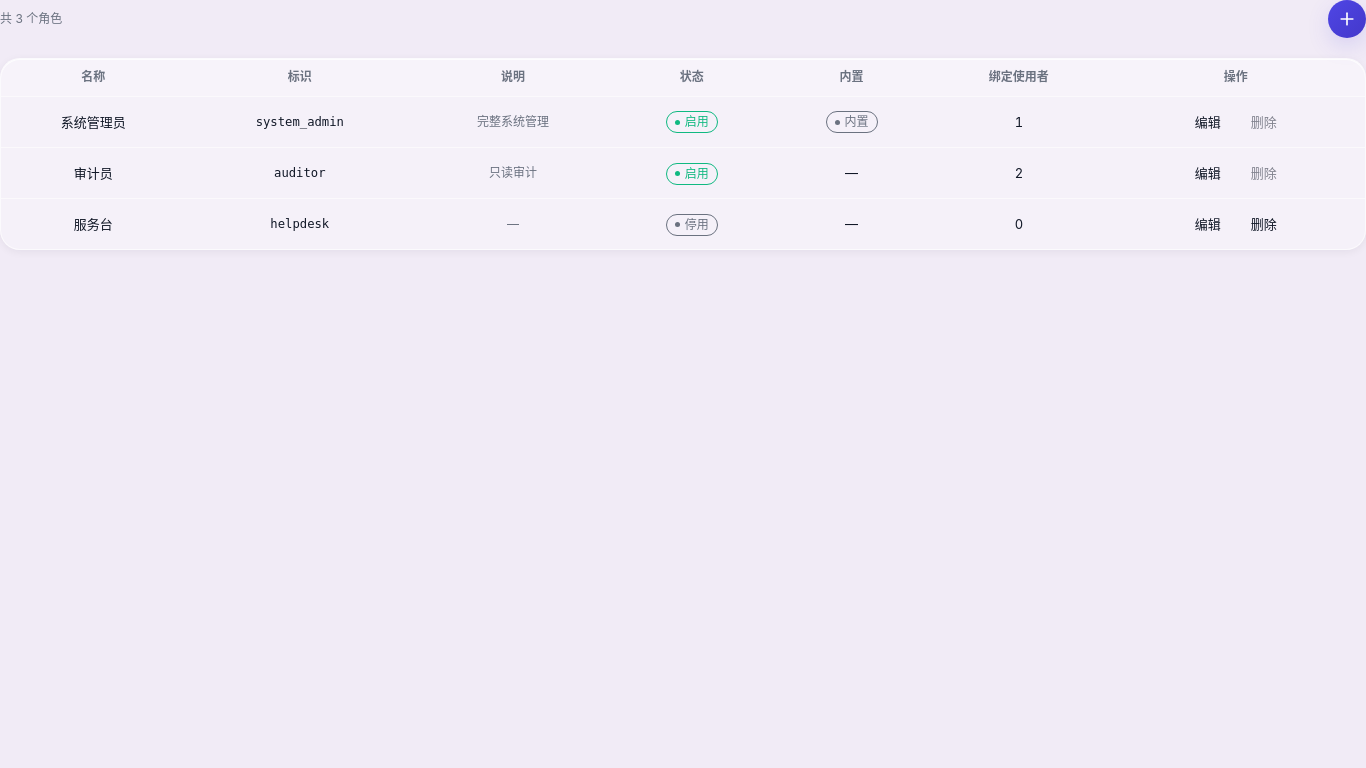
角色管理 › 编辑自定义角色：弹窗内名称/说明可改，保存提交 id 与原状态
The width and height of the screenshot is (1366, 768).
Expected: the text "服务台" is shown, [1,198,186,249]
Click the button with aria-label "编辑角色 服务台".
click(1208, 224)  # box [1184,208,1232,240]
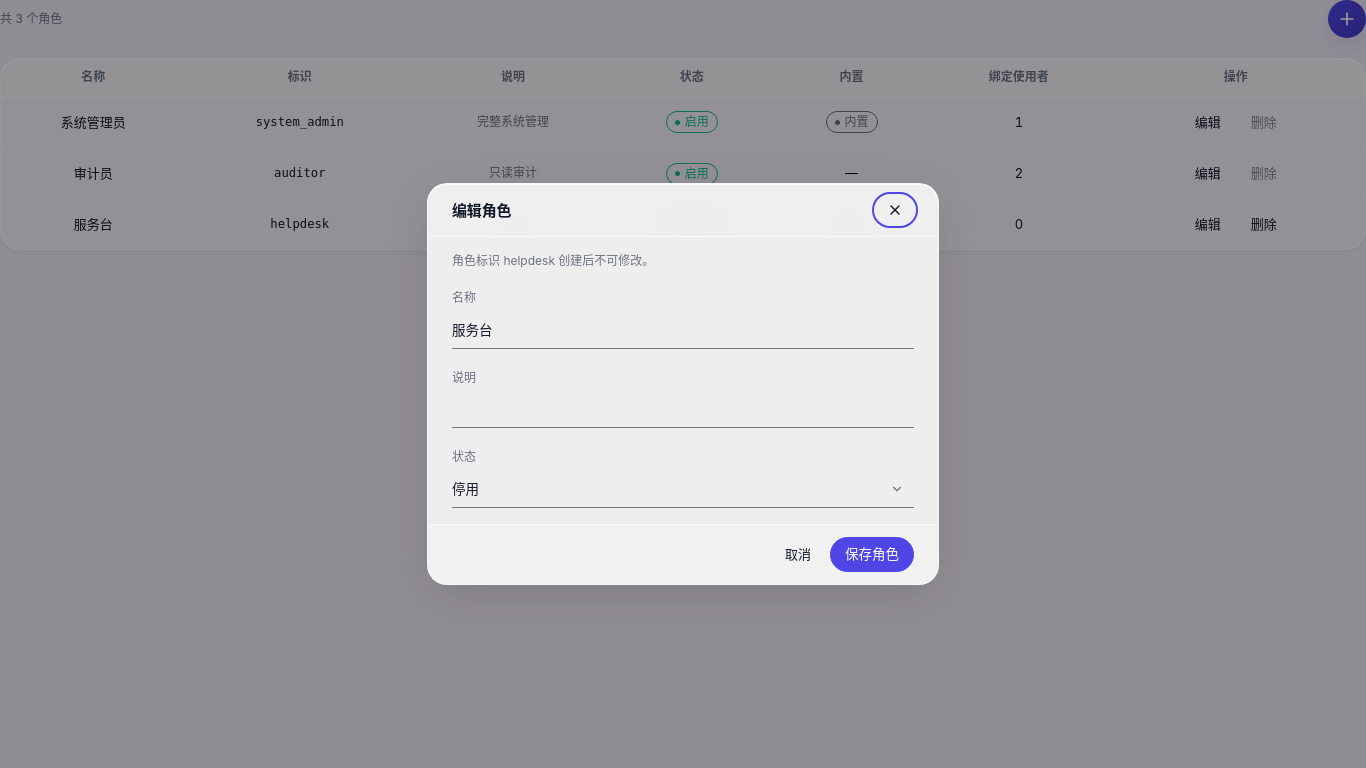
Expected: the field labelled "名称" holds "服务台"
Expected: the field labelled "名称" is enabled
Replace the text in the field labelled "名称" with "支持台" at (683, 330), box [452,313,914,348]
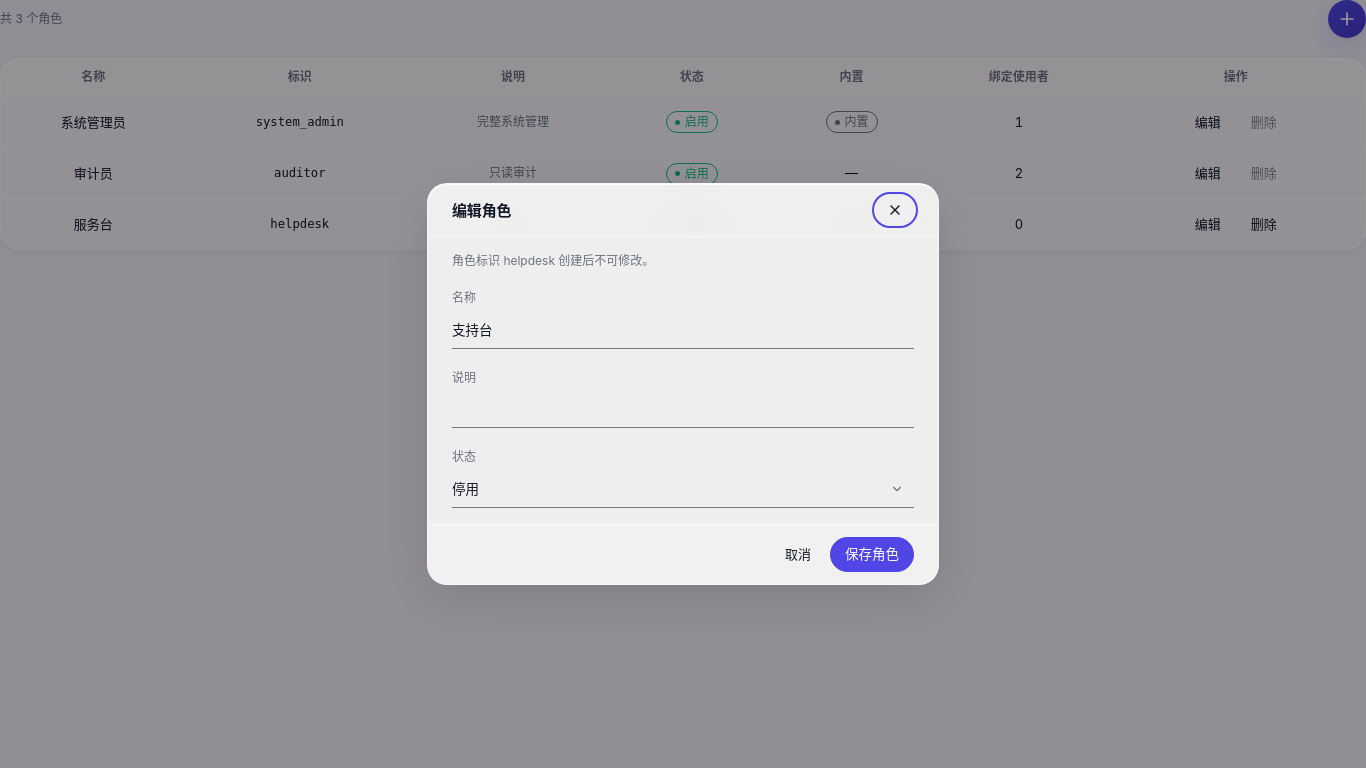
Click the button "保存角色".
click(872, 554)  # box [830,537,914,572]
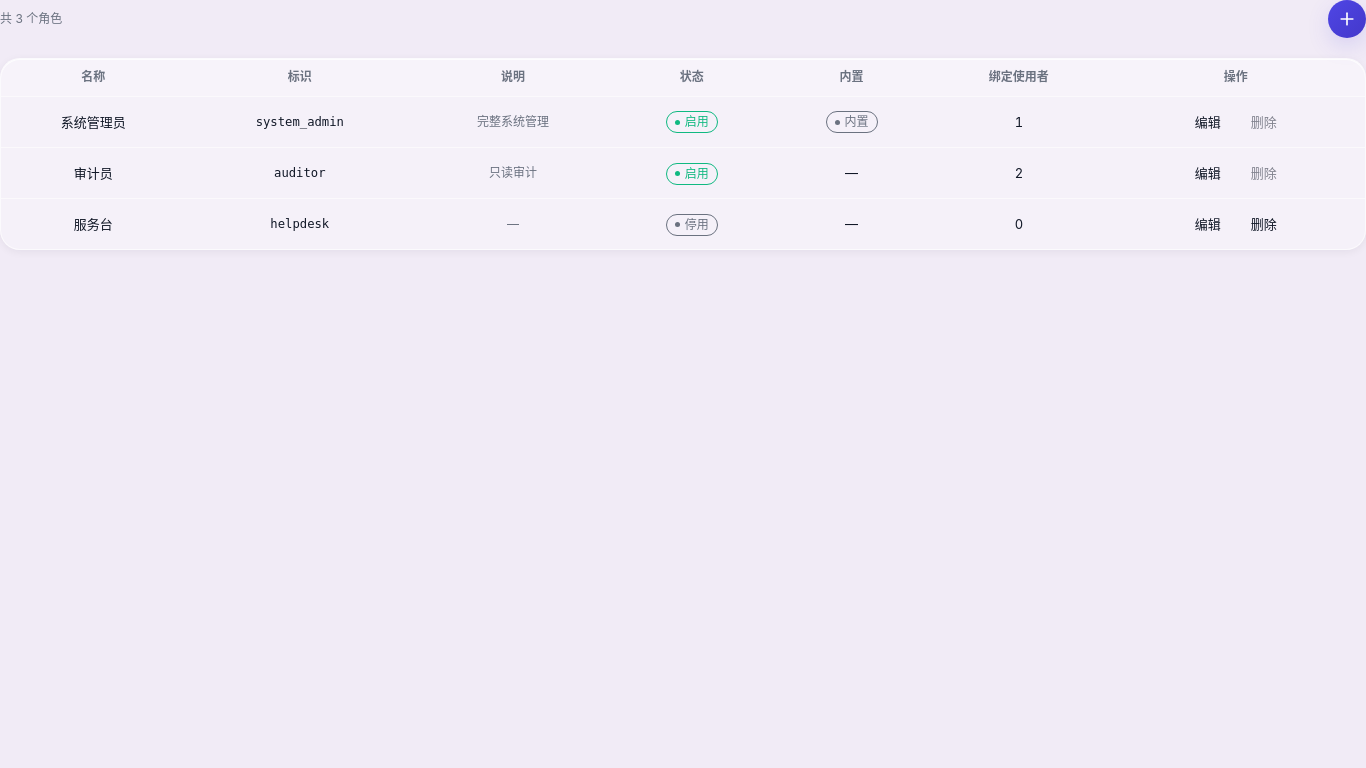
Expected: the heading "编辑角色" is gone
